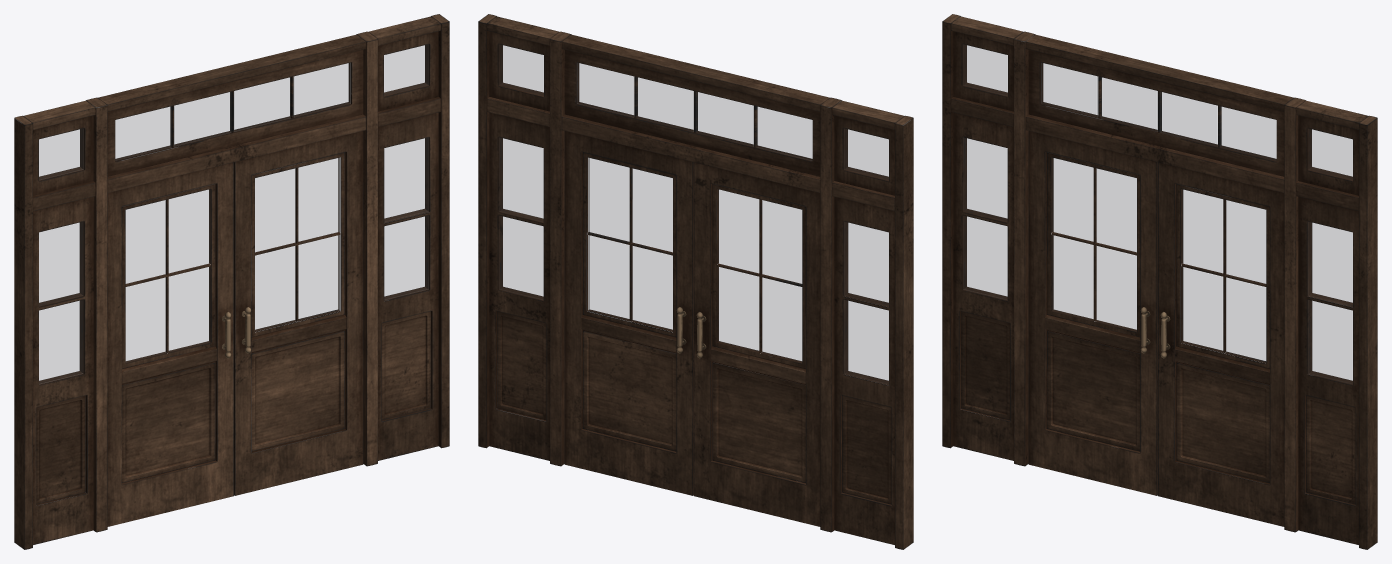
File: vintage_double_wooden_doors_-_4096px2.glb
3 renders of one model, left to right at view 1: azimuth 30°, elevation 25°; view 2: azimuth 150°, elevation 25°; view 3: azimuth 330°, elevation 25°, orthographic.
Parts seen in each view (by area): view 1: Asylum Entrance - Frame, Asylum Entrance - Right Door, Asylum Entrance - Left Door; view 2: Asylum Entrance - Frame, Asylum Entrance - Right Door, Asylum Entrance - Left Door; view 3: Asylum Entrance - Frame, Asylum Entrance - Left Door, Asylum Entrance - Right Door.
Part boxes in pixels (left/top/right/bottom): Asylum Entrance - Frame: left=14, top=14, right=449, bottom=549; Asylum Entrance - Right Door: left=234, top=131, right=363, bottom=495; Asylum Entrance - Left Door: left=107, top=162, right=233, bottom=526; Asylum Entrance - Frame: left=478, top=14, right=913, bottom=549; Asylum Entrance - Right Door: left=564, top=131, right=693, bottom=495; Asylum Entrance - Left Door: left=694, top=162, right=820, bottom=526; Asylum Entrance - Frame: left=942, top=14, right=1377, bottom=549; Asylum Entrance - Left Door: left=1028, top=131, right=1157, bottom=495; Asylum Entrance - Right Door: left=1158, top=162, right=1284, bottom=526.
Bounding box in the file's own units: 3.22 × 3.07 × 0.2019.
1 material, 1 textured.
